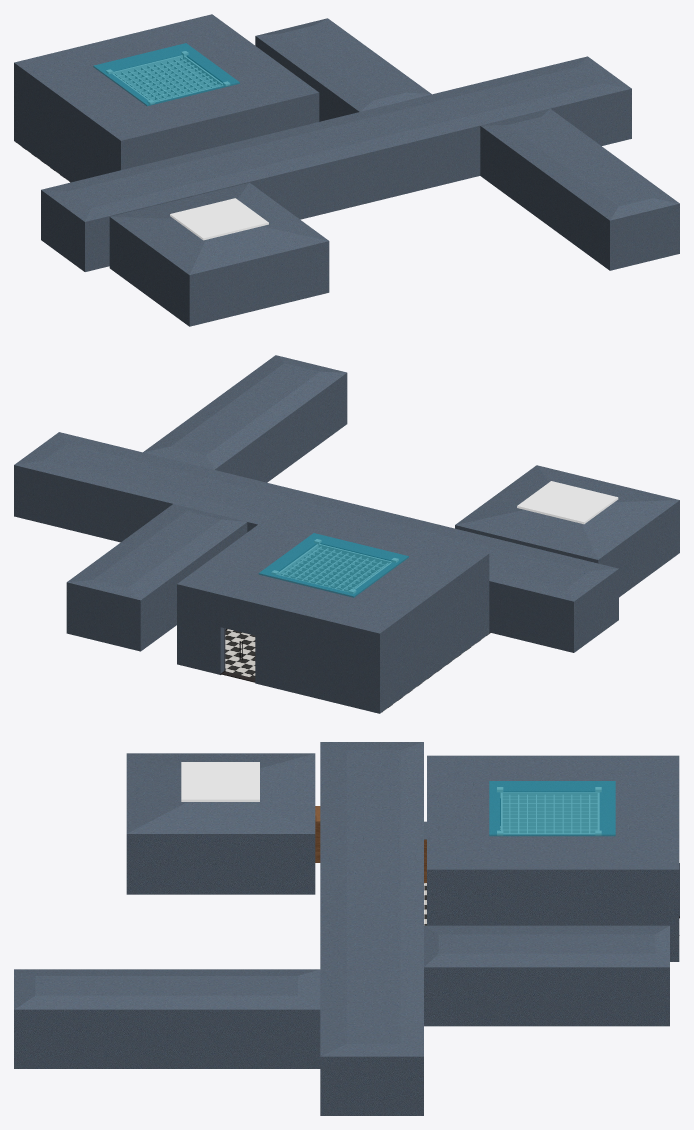
Rendered from artRoom.gltf.
The picture shows the model from 3 angles, top to bottom: view 1: azimuth 30°, elevation 25°; view 2: azimuth 150°, elevation 25°; view 3: azimuth 270°, elevation 25°; orthographic projection. The views are drawn at different scales.
Visible parts, largest first — view 1: outWall1, RongGallery, Top, Top2; view 2: outWall1, RongGallery, Top, Top2; view 3: outWall1, RongGallery, Top, Top2.
Boxes of the visible parts, x1=… form: outWall1: x1=14, y1=14, x2=679, y2=326; RongGallery: x1=16, y1=43, x2=239, y2=182; Top: x1=105, y1=51, x2=230, y2=104; Top2: x1=170, y1=198, x2=268, y2=240; outWall1: x1=14, y1=355, x2=679, y2=713; RongGallery: x1=225, y1=533, x2=490, y2=712; Top: x1=271, y1=539, x2=398, y2=593; Top2: x1=517, y1=481, x2=618, y2=524; outWall1: x1=14, y1=742, x2=679, y2=1115; RongGallery: x1=424, y1=781, x2=615, y2=925; Top: x1=497, y1=787, x2=601, y2=835; Top2: x1=181, y1=762, x2=259, y2=801.
Bounding box in the file's own units: 70.63 × 10.28 × 63.17.
